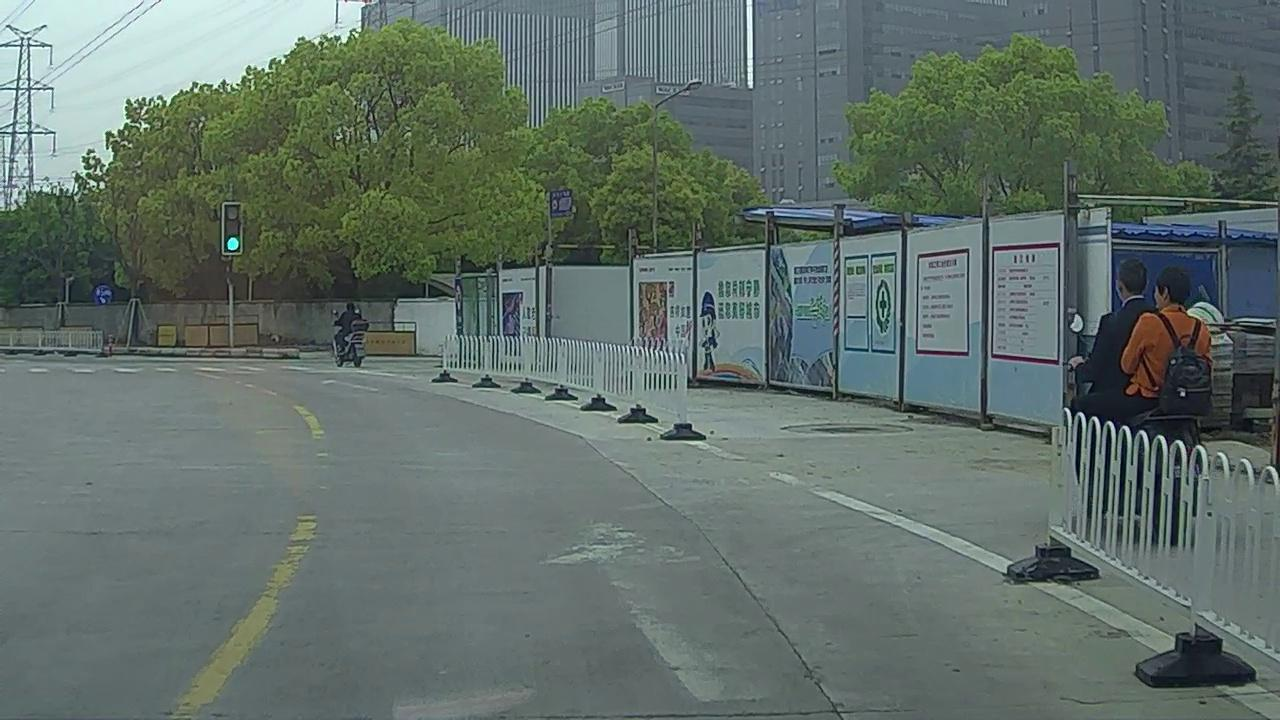traffic_light: (223, 203, 241, 255)
